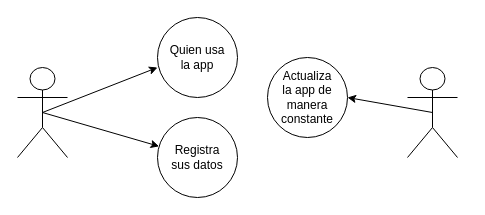
This 485x215 diagram has some shape labels left out. The shapes that lost their labels are listed below. From the top down, each one's box as (x1, y1, x2, y2) in pixels, then its label:
(16, 66, 68, 158): Cliente
(406, 66, 458, 158): Programador
